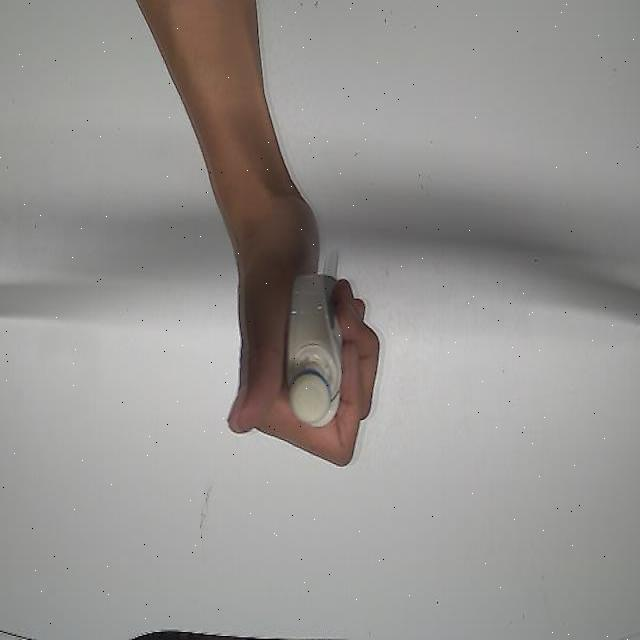Single Channel Pipettor: (286, 230, 345, 430)
